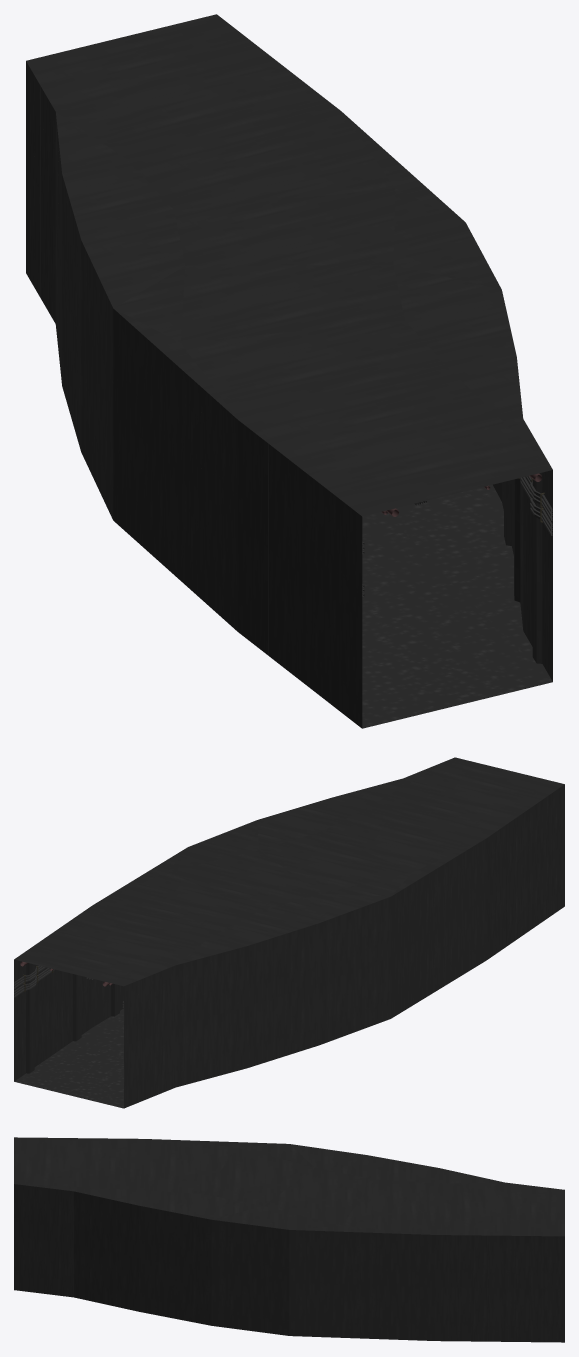
The model's file is SW_ENV_RailTunnel_JogRight_FF.fbx.
3 renders of one model, top to bottom at view 1: azimuth 30°, elevation 25°; view 2: azimuth 150°, elevation 25°; view 3: azimuth 270°, elevation 25°, orthographic. The views are drawn at different scales.
Parts seen in each view (by area): view 1: SW_ENV_RailTunnel_JogRight_FF; view 2: SW_ENV_RailTunnel_JogRight_FF; view 3: SW_ENV_RailTunnel_JogRight_FF.
Boxes of the visible parts, box(x1,y1,x2,y2) form: SW_ENV_RailTunnel_JogRight_FF: box(26, 14, 552, 728); SW_ENV_RailTunnel_JogRight_FF: box(14, 757, 564, 1108); SW_ENV_RailTunnel_JogRight_FF: box(14, 1137, 564, 1342).
Bounding box in the file's own units: 8.5 × 4.25 × 20.
